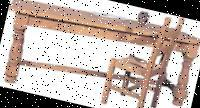Mesa: (0, 0, 199, 107)
Silla: (97, 3, 187, 107)
